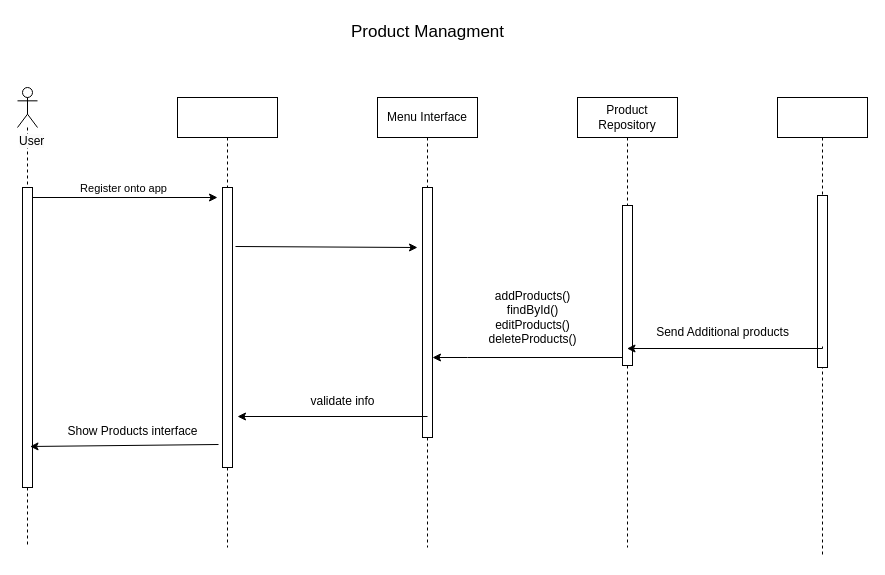
Image size: 885x575. Some labels were removed from this diagram. Here are the shapes that lost their labels. From the top down, the box of each, then its label:
(176, 96, 278, 548): App
(776, 96, 868, 558): API Service
